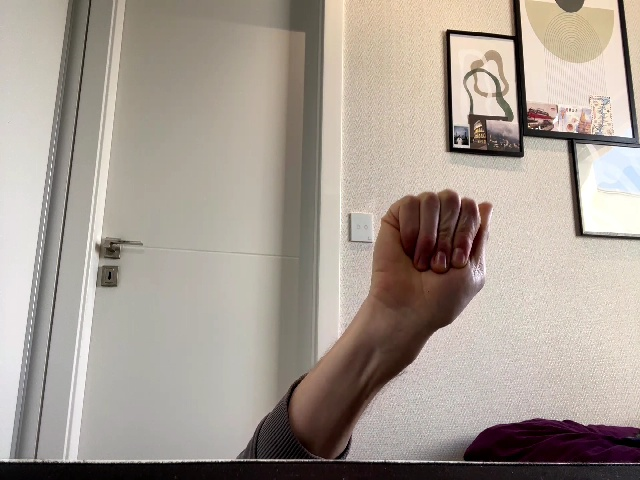A: (373, 189, 493, 339)
